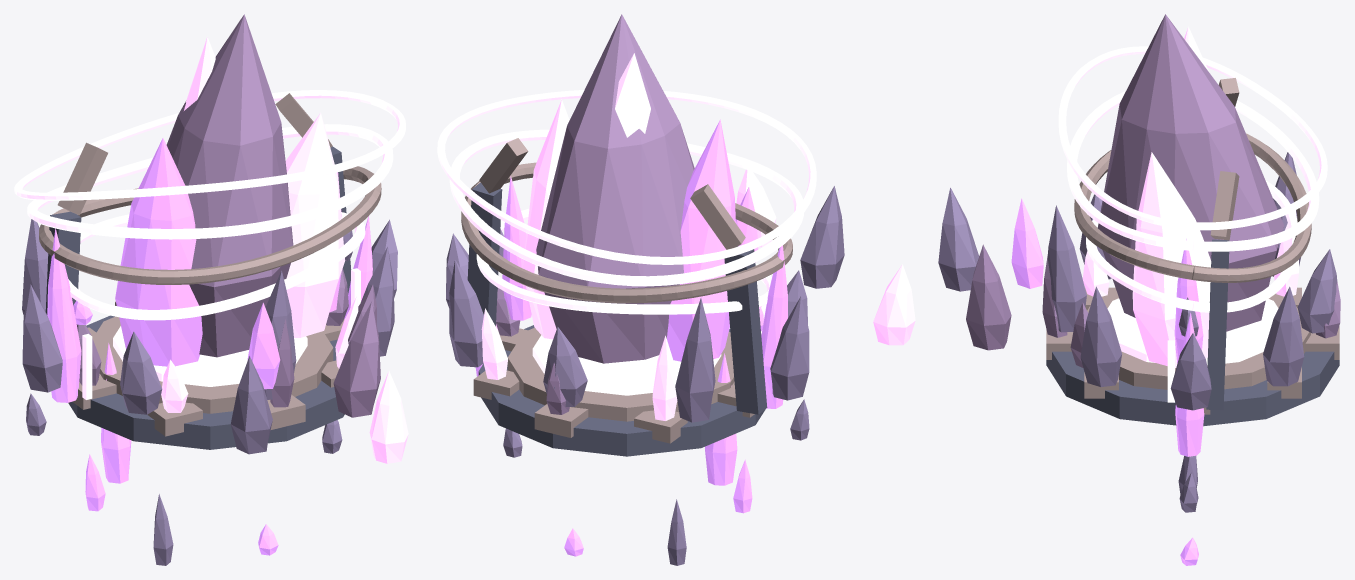
The model's file is nebula.glb.
The picture shows the model from 3 angles, left to right: view 1: azimuth 30°, elevation 25°; view 2: azimuth 150°, elevation 25°; view 3: azimuth 270°, elevation 25°; orthographic projection. The views are drawn at different scales.
Visible parts, largest first — view 1: NEBULA / Astral resonant reactor; view 2: NEBULA / Astral resonant reactor; view 3: NEBULA / Astral resonant reactor.
Part boxes in pixels (left/top/right/bottom): NEBULA / Astral resonant reactor: left=14, top=14, right=408, bottom=565; NEBULA / Astral resonant reactor: left=437, top=14, right=844, bottom=565; NEBULA / Astral resonant reactor: left=873, top=14, right=1340, bottom=565.
Size of the model in its own units: 7.18 by 10.21 by 8.13.
